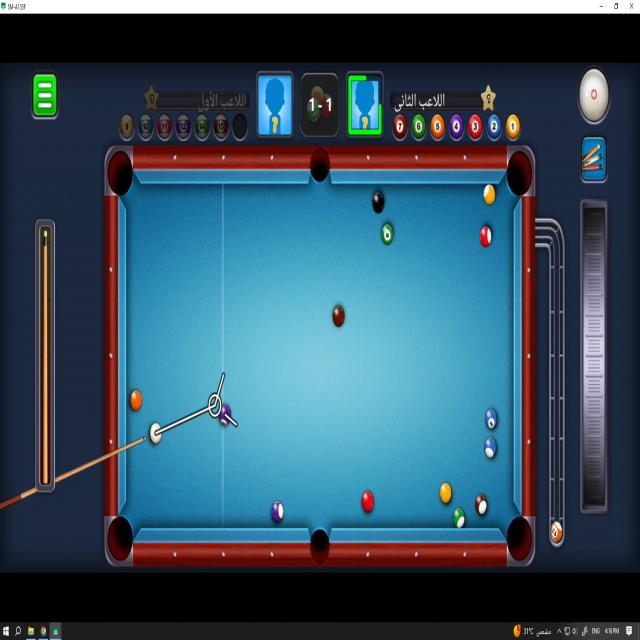object_ball: (218, 402, 232, 428), (333, 305, 345, 327), (453, 507, 465, 529), (130, 390, 142, 411), (362, 491, 374, 512), (485, 437, 496, 458), (373, 192, 384, 213), (480, 226, 491, 247), (272, 501, 283, 522), (382, 224, 393, 244), (440, 483, 451, 503), (476, 494, 487, 514), (484, 185, 495, 205), (485, 409, 496, 429)
white_cue_ball: (149, 422, 163, 445)
